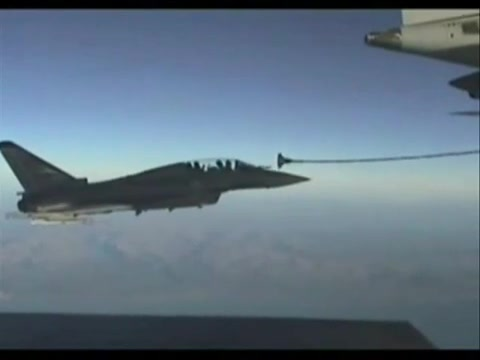aeroplane: (1, 140, 313, 227)
